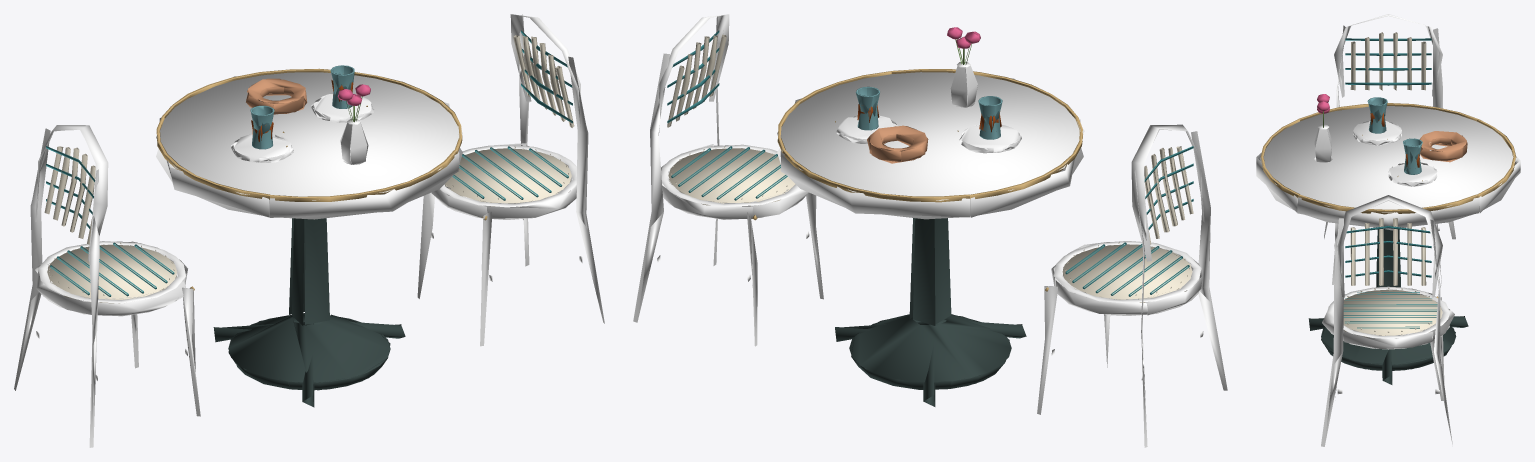
The model's file is CafeSet_LOD1.glb.
3 views of the same model, side by side, from view 1: azimuth 30°, elevation 25°; view 2: azimuth 150°, elevation 25°; view 3: azimuth 270°, elevation 25° (orthographic). The views are drawn at different scales.
Parts seen in each view (by area): view 1: RK_CafeSet_LOD1_RK_Stone, RK_CafeSet_LOD1_RK_Wood, RK_CafeSet_LOD1_RK_Iron, RK_CafeSet_LOD1_RK_CanvasCream, RK_CafeSet_LOD1_RK_CanvasBlue, RK_CafeSet_LOD1_RK_Brass, RK_CafeSet_LOD1_RK_Iznik, RK_CafeSet_LOD1_RK_Terracotta, RK_CafeSet_LOD1_LC_Glass; view 2: RK_CafeSet_LOD1_RK_Stone, RK_CafeSet_LOD1_RK_Wood, RK_CafeSet_LOD1_RK_Iron, RK_CafeSet_LOD1_RK_CanvasCream, RK_CafeSet_LOD1_RK_CanvasBlue, RK_CafeSet_LOD1_RK_Brass, RK_CafeSet_LOD1_RK_Iznik, RK_CafeSet_LOD1_RK_Terracotta, RK_CafeSet_LOD1_LC_Glass; view 3: RK_CafeSet_LOD1_RK_Stone, RK_CafeSet_LOD1_RK_Wood, RK_CafeSet_LOD1_RK_CanvasCream, RK_CafeSet_LOD1_RK_Iron, RK_CafeSet_LOD1_RK_CanvasBlue, RK_CafeSet_LOD1_RK_Brass, RK_CafeSet_LOD1_RK_Iznik, RK_CafeSet_LOD1_RK_Terracotta, RK_CafeSet_LOD1_LC_Glass.
Part boxes in pixels (left/top/right/bottom): RK_CafeSet_LOD1_RK_Stone: left=156, top=72, right=462, bottom=219; RK_CafeSet_LOD1_RK_Wood: left=14, top=14, right=604, bottom=447; RK_CafeSet_LOD1_RK_Iron: left=213, top=218, right=405, bottom=407; RK_CafeSet_LOD1_RK_CanvasCream: left=44, top=35, right=574, bottom=303; RK_CafeSet_LOD1_RK_CanvasBlue: left=46, top=30, right=572, bottom=296; RK_CafeSet_LOD1_RK_Brass: left=156, top=68, right=487, bottom=290; RK_CafeSet_LOD1_RK_Iznik: left=231, top=93, right=373, bottom=164; RK_CafeSet_LOD1_RK_Terracotta: left=246, top=78, right=307, bottom=114; RK_CafeSet_LOD1_LC_Glass: left=250, top=65, right=354, bottom=149; RK_CafeSet_LOD1_RK_Stone: left=777, top=72, right=1084, bottom=219; RK_CafeSet_LOD1_RK_Wood: left=633, top=14, right=1227, bottom=447; RK_CafeSet_LOD1_RK_Iron: left=835, top=218, right=1026, bottom=406; RK_CafeSet_LOD1_RK_CanvasCream: left=667, top=34, right=1193, bottom=302; RK_CafeSet_LOD1_RK_CanvasBlue: left=667, top=30, right=1193, bottom=296; RK_CafeSet_LOD1_RK_Brass: left=752, top=69, right=1082, bottom=291; RK_CafeSet_LOD1_RK_Iznik: left=836, top=62, right=1021, bottom=153; RK_CafeSet_LOD1_RK_Terracotta: left=867, top=125, right=928, bottom=163; RK_CafeSet_LOD1_LC_Glass: left=855, top=86, right=1002, bottom=139; RK_CafeSet_LOD1_RK_Stone: left=1256, top=103, right=1520, bottom=230; RK_CafeSet_LOD1_RK_Wood: left=1321, top=14, right=1455, bottom=446; RK_CafeSet_LOD1_RK_CanvasCream: left=1343, top=32, right=1442, bottom=337; RK_CafeSet_LOD1_RK_Iron: left=1308, top=229, right=1468, bottom=384; RK_CafeSet_LOD1_RK_CanvasBlue: left=1343, top=38, right=1437, bottom=328; RK_CafeSet_LOD1_RK_Brass: left=1260, top=103, right=1516, bottom=297; RK_CafeSet_LOD1_RK_Iznik: left=1314, top=120, right=1437, bottom=186; RK_CafeSet_LOD1_RK_Terracotta: left=1419, top=131, right=1467, bottom=162; RK_CafeSet_LOD1_LC_Glass: left=1367, top=97, right=1422, bottom=174.
Bounding box in the file's own units: 1.88 × 1.03 × 0.9746.
